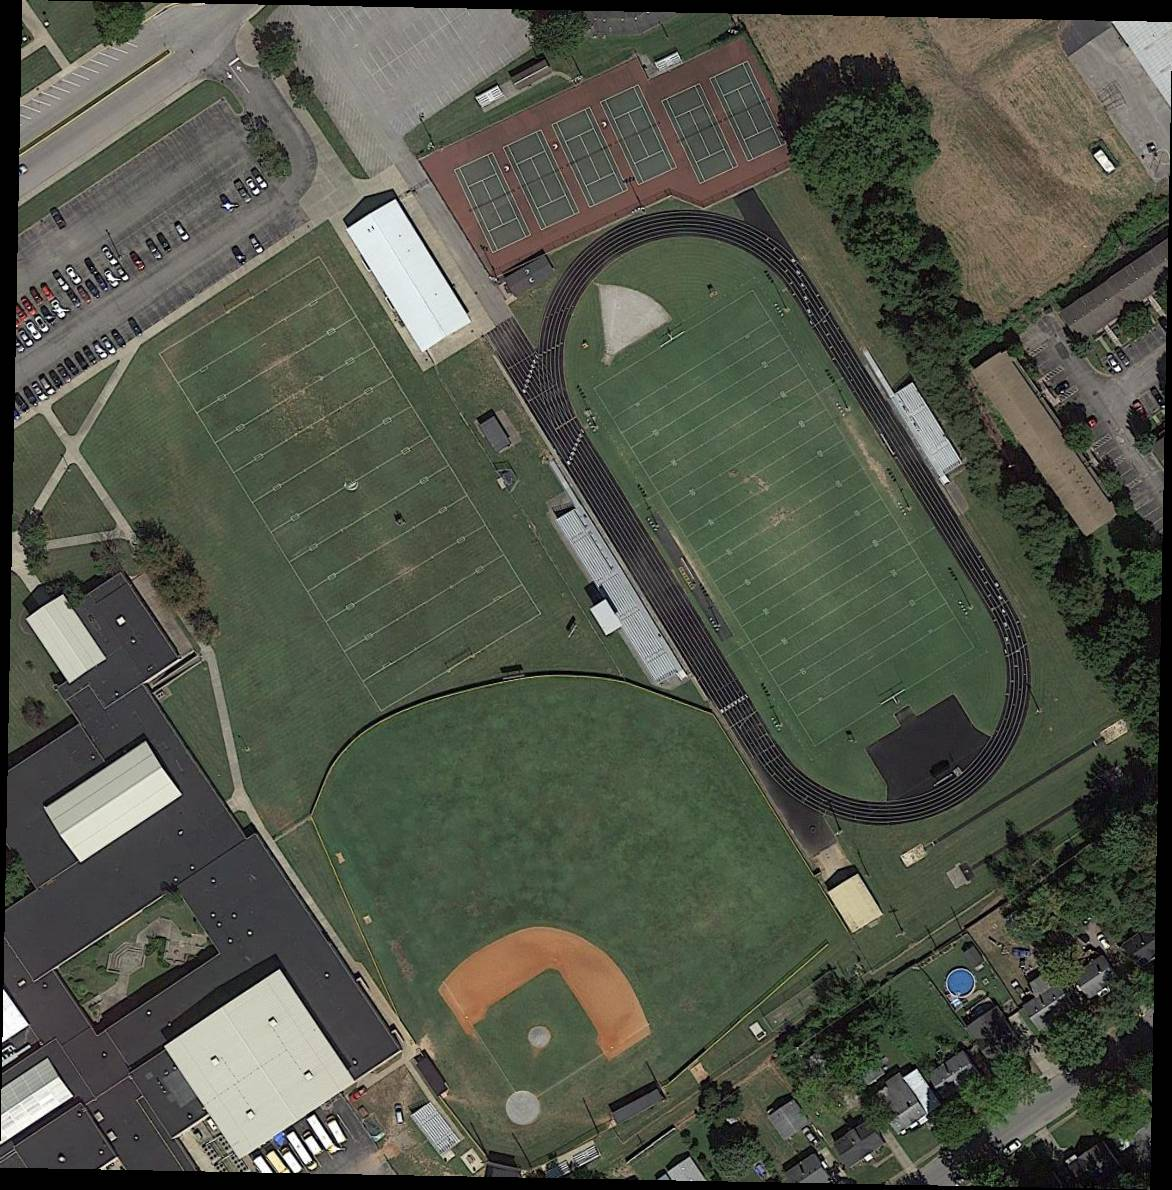baseball diamond: (431, 892, 657, 1116)
ground track field: (473, 152, 1085, 885)
soccer ball field: (158, 254, 544, 712), (594, 290, 977, 749)
swimming pool: (947, 969, 977, 997)
tennis court: (551, 106, 632, 209), (709, 59, 789, 163), (599, 85, 678, 188), (661, 83, 739, 186), (456, 152, 533, 255), (503, 130, 581, 232)
